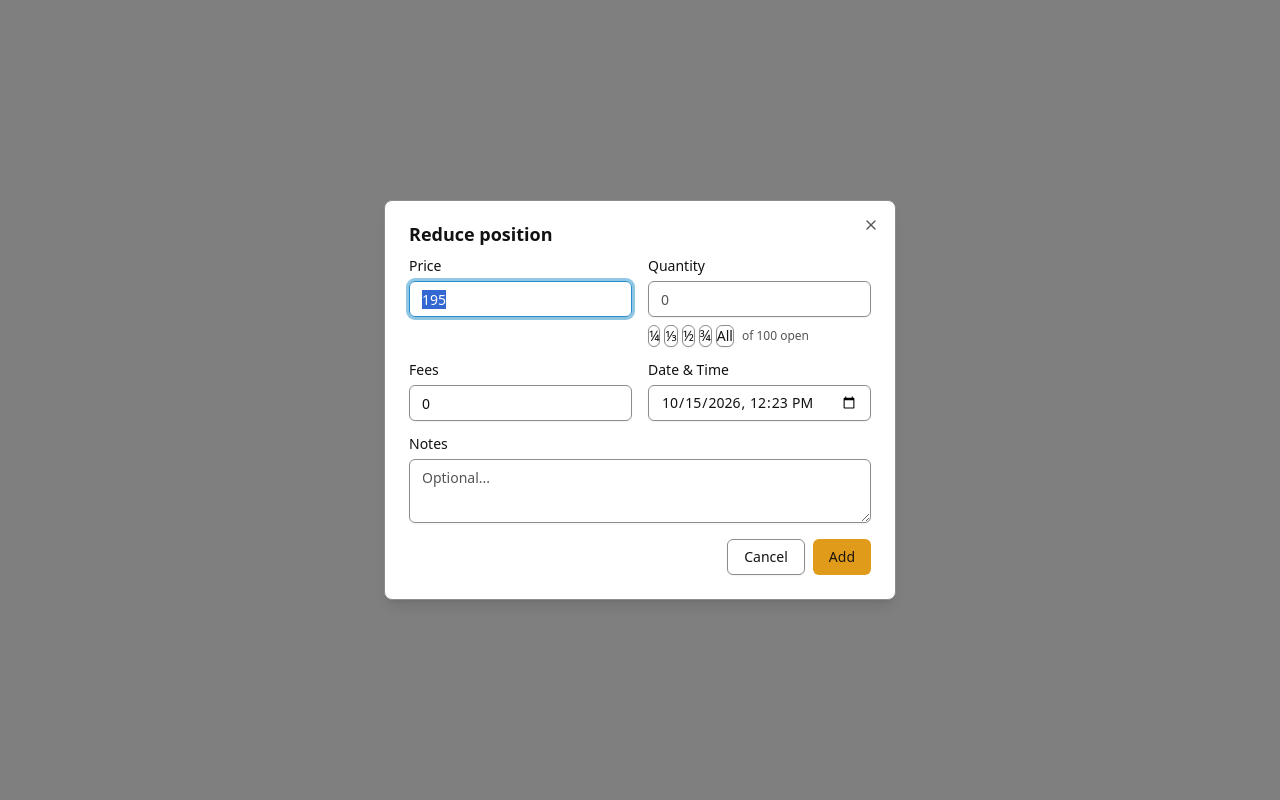
Test: FillDialog — quantity presets › offers fractions of open size when reducing
Expected: the text "of 100 open" is shown, left=742, top=328, right=809, bottom=344
Click the button "½". click: (688, 336)
box: left=682, top=325, right=695, bottom=347
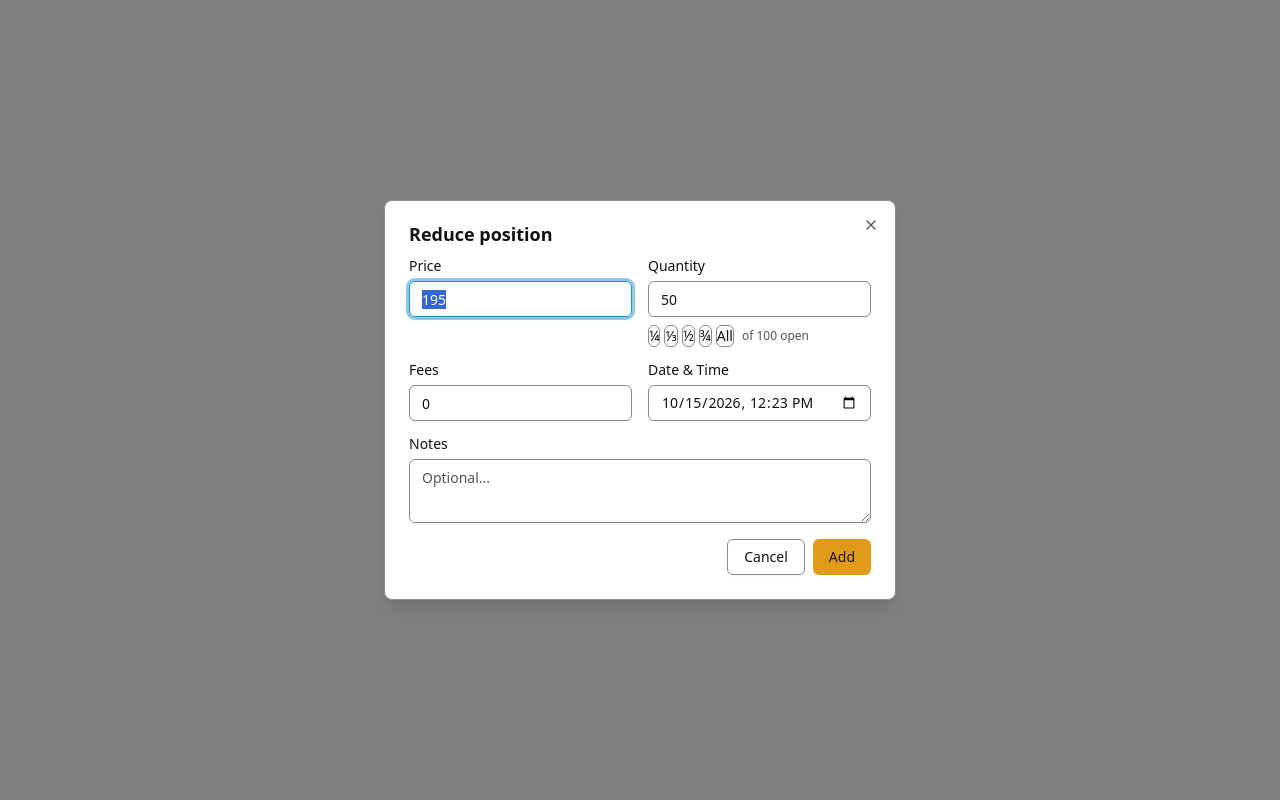
Now the field labelled "Quantity" holds "50", box left=648, top=281, right=871, bottom=317
